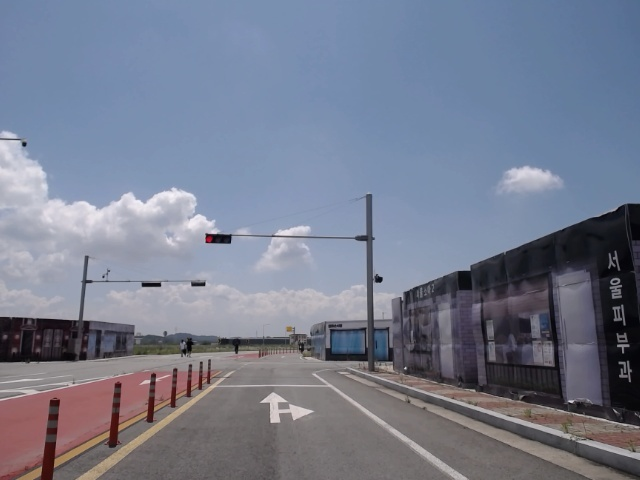red_3: (205, 235, 233, 245)
